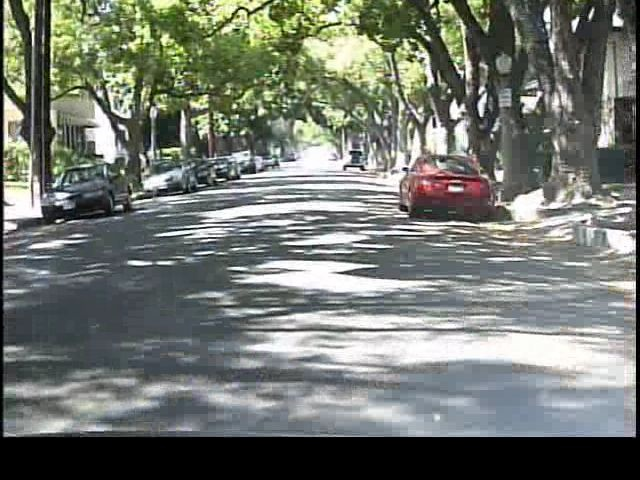person: (135, 146, 156, 189)
